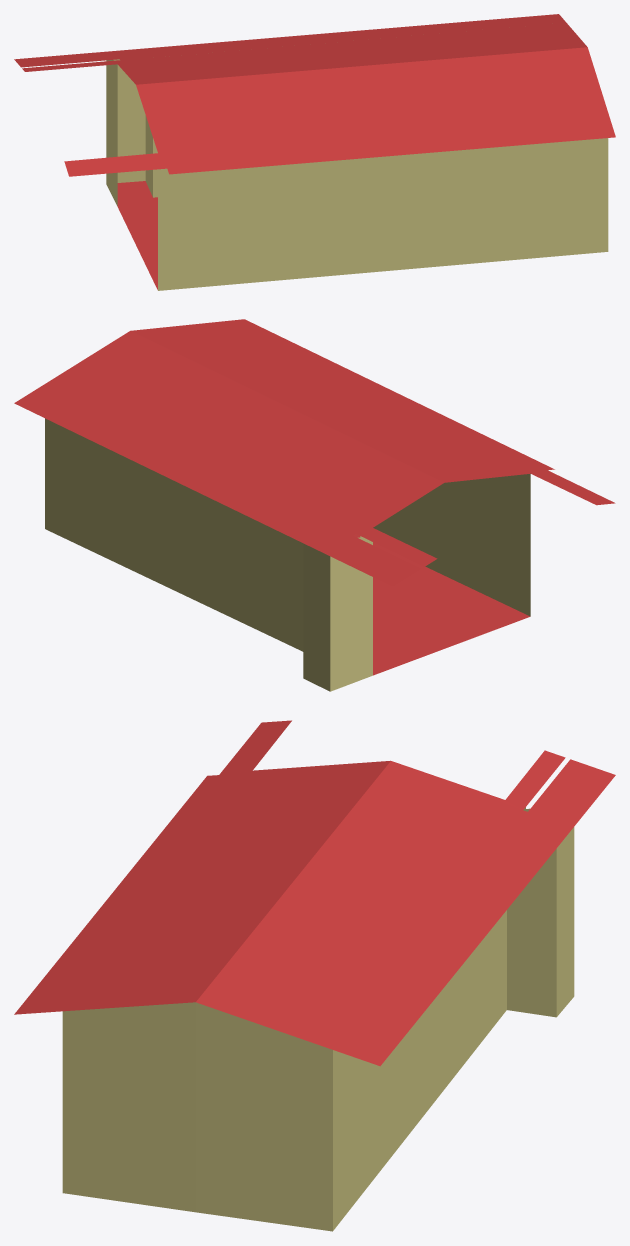
3 renders of one model, top to bottom at view 1: azimuth 30°, elevation 25°; view 2: azimuth 150°, elevation 25°; view 3: azimuth 270°, elevation 25°, orthographic. The views are drawn at different scales.
Bounding box in the file's own units: 34.17 × 25.38 × 9.77.
